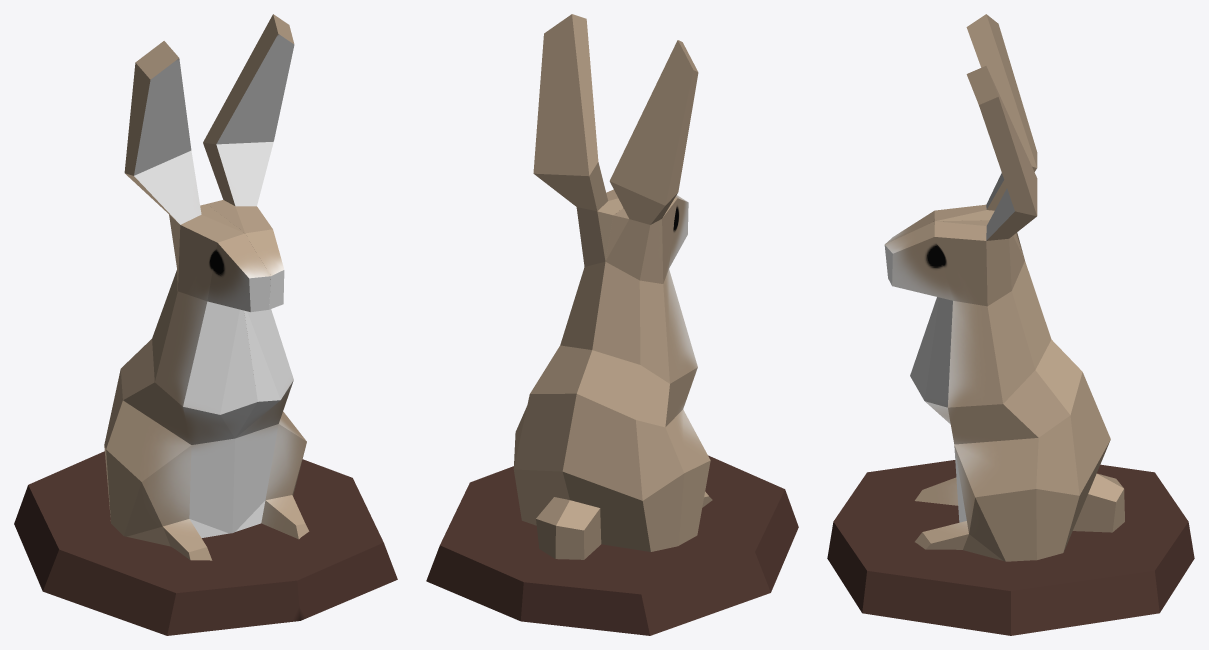
File: Asset_Food_Bunny.fbx
The picture shows the model from 3 angles, left to right: view 1: azimuth 30°, elevation 25°; view 2: azimuth 150°, elevation 25°; view 3: azimuth 270°, elevation 25°; orthographic projection. The views are drawn at different scales.
Parts seen in each view (by area): view 1: Polysurface_Food_Bunny, Food_bunny_Stand; view 2: Polysurface_Food_Bunny, Food_bunny_Stand; view 3: Polysurface_Food_Bunny, Food_bunny_Stand.
Part boxes in pixels (bbox=[...]): Polysurface_Food_Bunny: bbox=[104, 14, 309, 560]; Food_bunny_Stand: bbox=[14, 451, 397, 635]; Polysurface_Food_Bunny: bbox=[513, 14, 712, 559]; Food_bunny_Stand: bbox=[426, 455, 798, 635]; Polysurface_Food_Bunny: bbox=[884, 14, 1124, 561]; Food_bunny_Stand: bbox=[827, 460, 1194, 635].
Size of the model in its own units: 14.26 by 22.29 by 14.3.
1 material, 1 textured.
